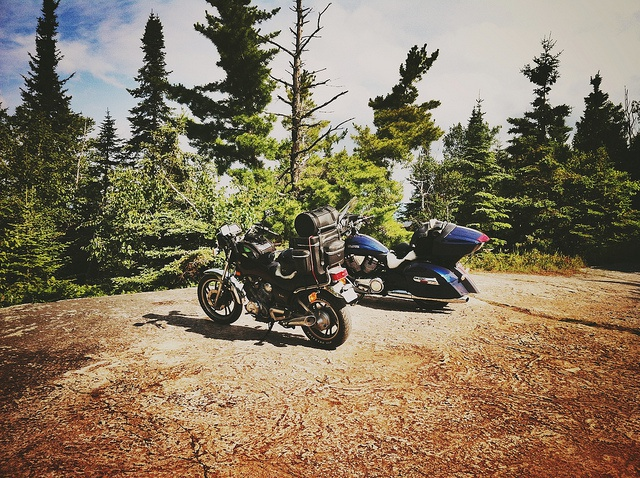non-vehicle: (195, 202, 360, 349), (342, 211, 489, 305)
